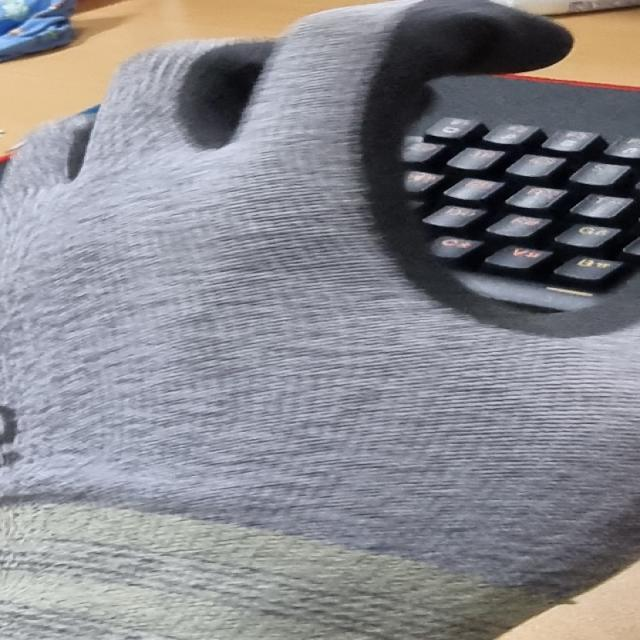Gloves: (4, 9, 640, 640)
